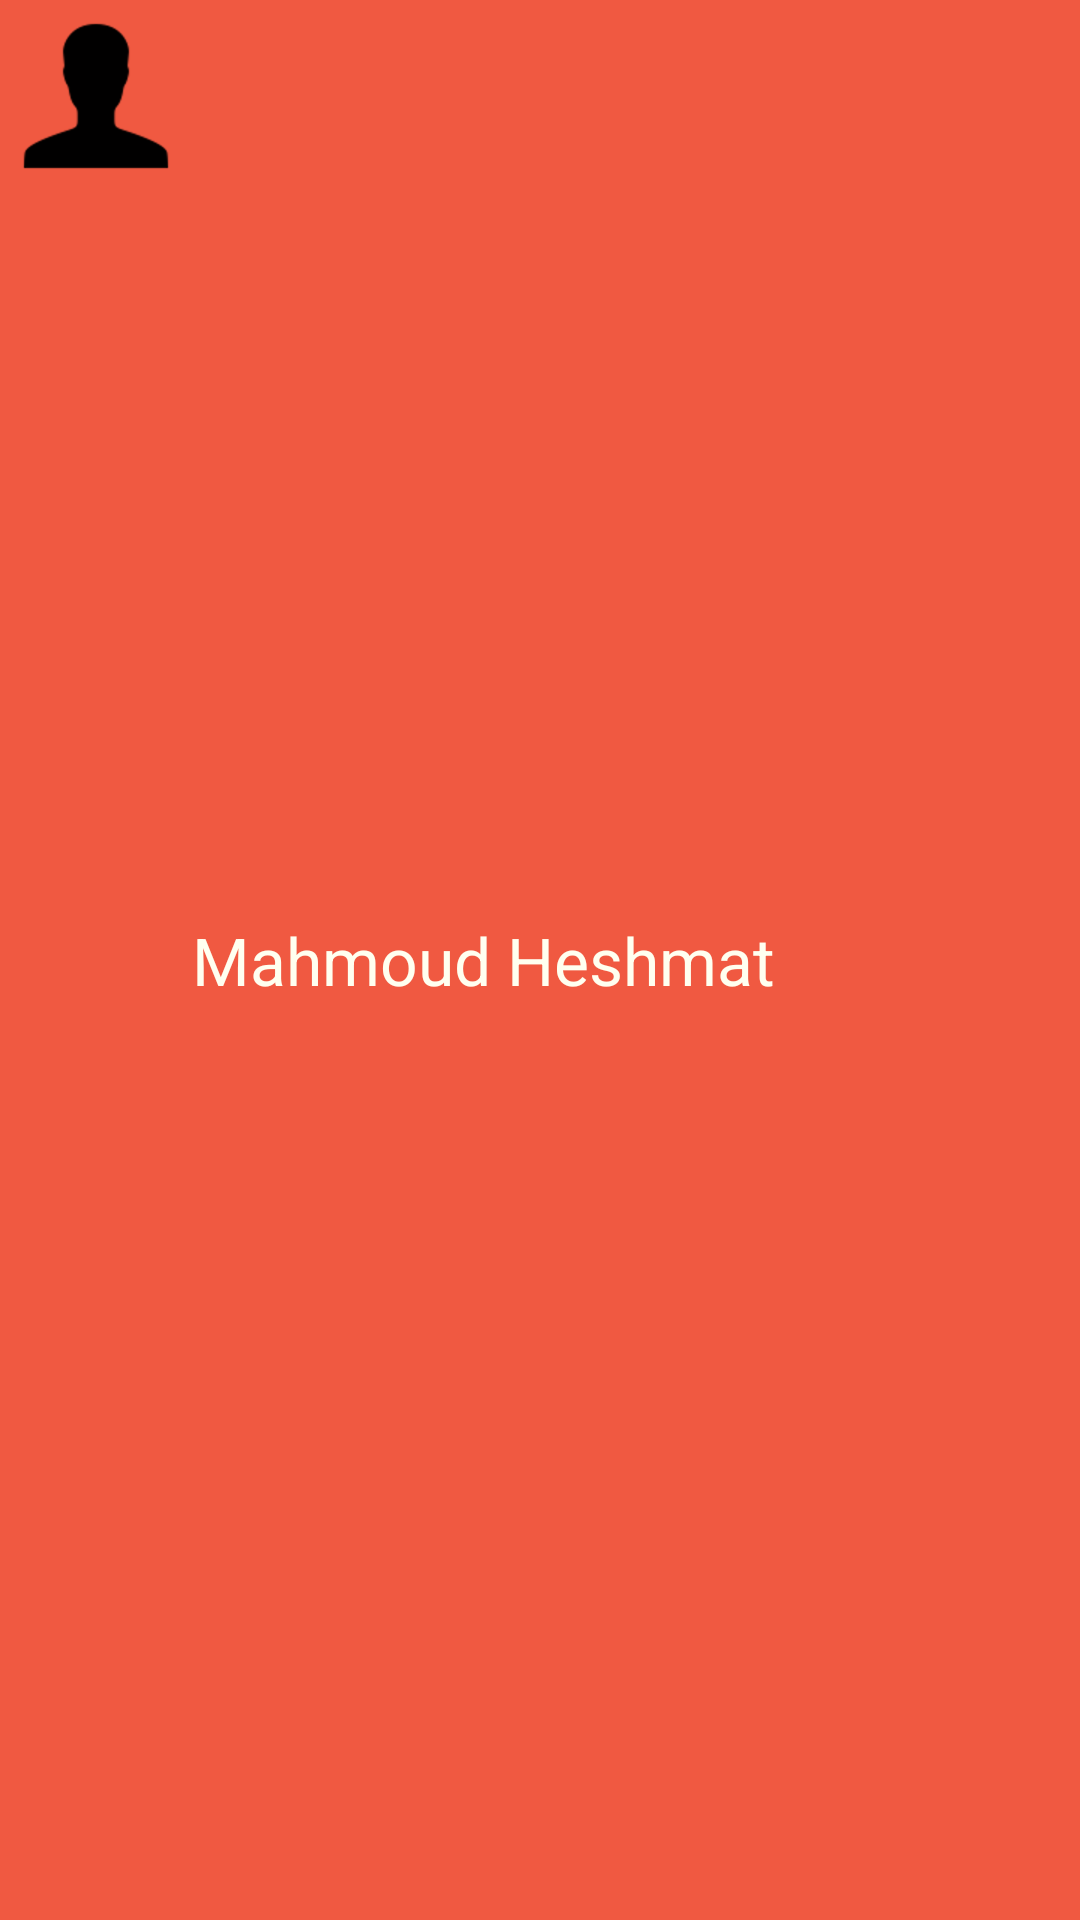

Icons on this 1080px x 1920px Android screen, each with its box as (x1, y1, x2, y2):
person: (23, 23, 169, 169)
